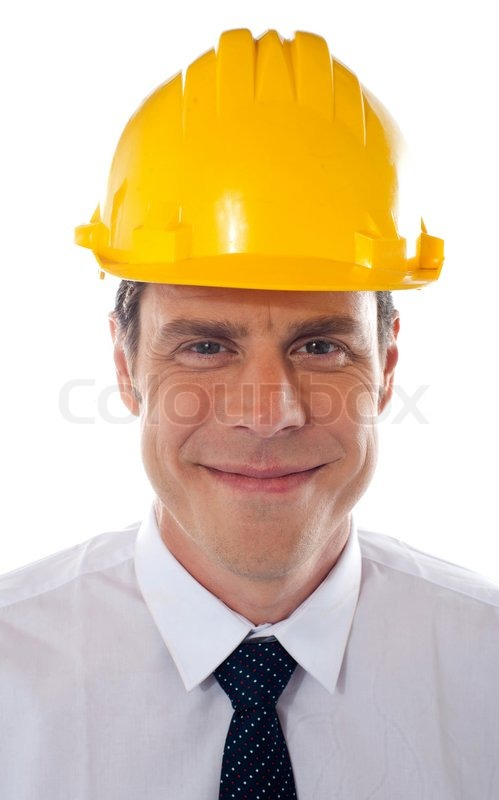Person_wearing_helmet: (94, 22, 429, 398)
